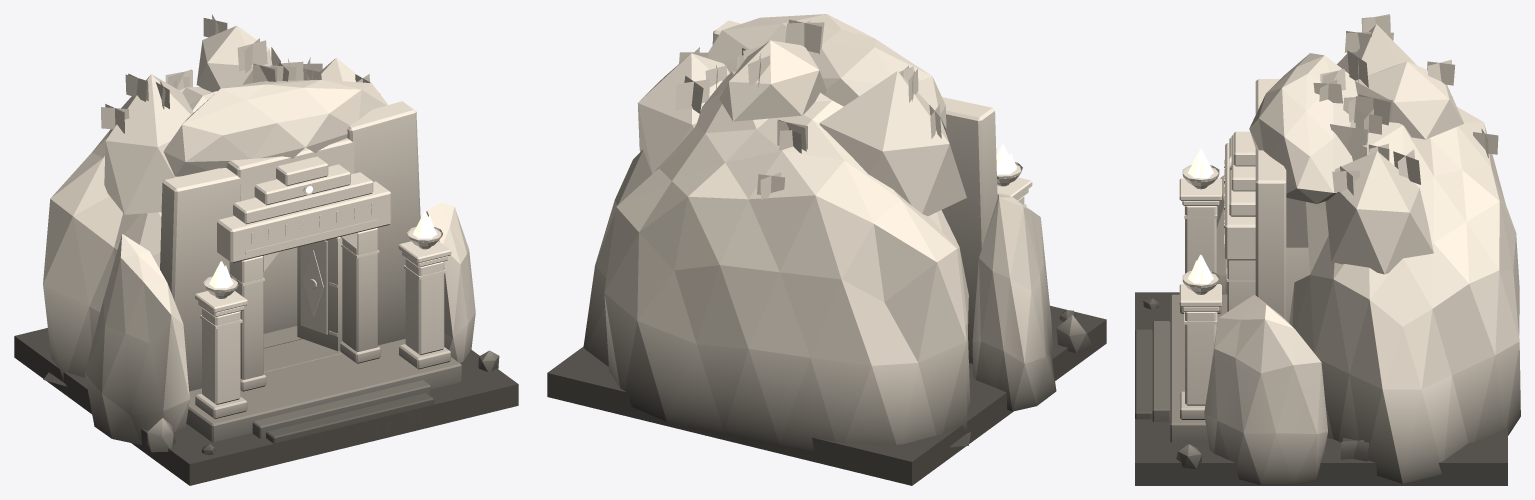
File: SM_VK_Entrance_DwarfGate.fbx
3 renders of one model, left to right at view 1: azimuth 30°, elevation 25°; view 2: azimuth 150°, elevation 25°; view 3: azimuth 270°, elevation 25°, orthographic. The views are drawn at different scales.
Parts seen in each view (by area): view 1: SM_VK_Entrance_DwarfGate.001; view 2: SM_VK_Entrance_DwarfGate.001; view 3: SM_VK_Entrance_DwarfGate.001.
Part boxes in pixels (left/top/right/bottom): SM_VK_Entrance_DwarfGate.001: left=14, top=14, right=518, bottom=485; SM_VK_Entrance_DwarfGate.001: left=547, top=14, right=1106, bottom=485; SM_VK_Entrance_DwarfGate.001: left=1135, top=14, right=1520, bottom=485.
Bounding box in the file's own units: 10.11 × 8.68 × 8.79.
